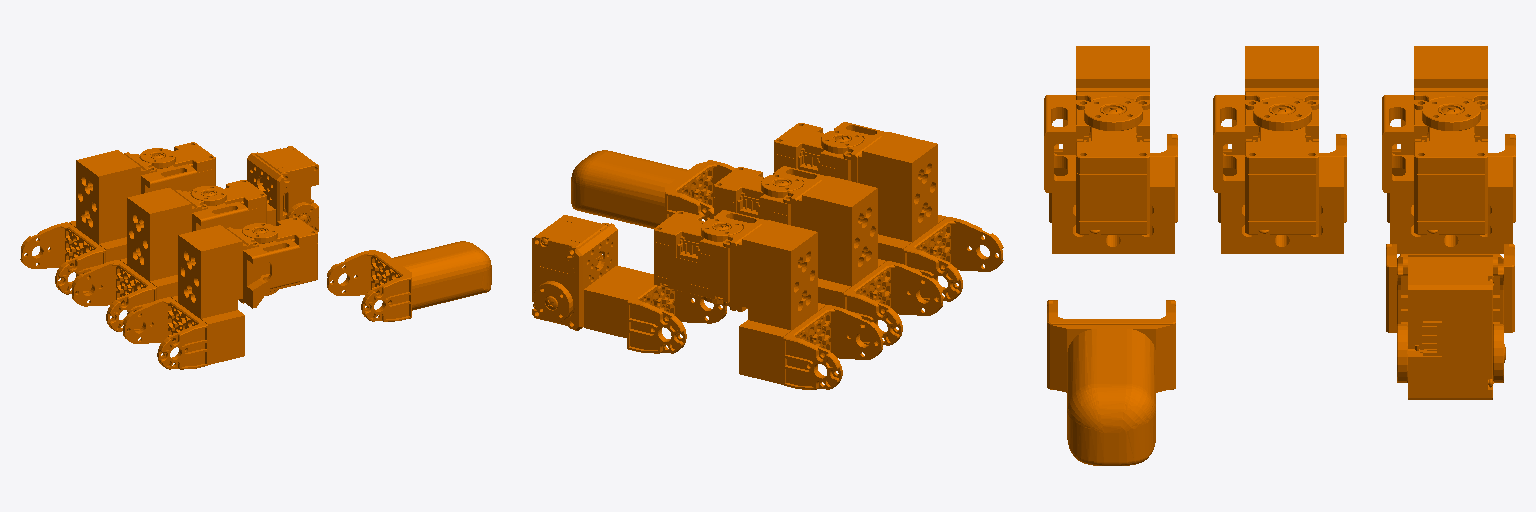
robot.urdf — onshape:
<robot name="onshape">
  <link name="palm_lower">
    <inertial>
      <origin xyz="0.0 0.0 0.0" rpy="0.0 -0.0 0.0"/>
      <mass value="0.237"/>
      <inertia ixx="0.000354094" ixy="-1.193e-06" ixz="-2.445e-06" iyy="0.000260915" iyz="-2.905e-06" izz="0.000529257"/>
    </inertial>
    <visual>
      <geometry>
        <mesh filename="../assets/leap/leap_hand/palm_lower.stl"/>
      </geometry>
      <origin xyz="-0.020095249652862544 0.025757756134899473 -0.034722403578460216" rpy="0.0 -0.0 0.0"/>
      <material name="palm_lower_material">
        <color rgba="0.6039215686274509 0.14901960784313725 0.14901960784313725 1.0"/>
      </material>
    </visual>
    <collision>
      <geometry>
        <mesh filename="../assets/leap/leap_hand/palm_lower.stl"/>
      </geometry>
      <origin xyz="-0.020095249652862544 0.025757756134899473 -0.034722403578460216" rpy="0.0 -0.0 0.0"/>
    </collision>
  </link>
  <link name="mcp_joint_long">
    <inertial>
      <origin xyz="0.0 0.0 0.0" rpy="0.0 -0.0 0.0"/>
      <mass value="0.044"/>
      <inertia ixx="1.1499e-05" ixy="3.049e-06" ixz="1.21e-07" iyy="7.796e-06" iyz="1.12e-07" izz="1.4759e-05"/>
    </inertial>
    <visual>
      <geometry>
        <mesh filename="custom_models/mcp_joint_long.stl"/>
      </geometry>
      <origin xyz="0.008406902261174496 0.0077662438597169954 0.014657354985032912" rpy="1.6375789613221e-15 -1.021047330249102e-30 1.7177968783327987e-31"/>
      <material name="mcp_joint_material">
        <color rgba="0.878 0.467 0.0 1.0"/>
      </material>
    </visual>
    <collision>
      <geometry>
        <mesh filename="custom_models/mcp_joint_long.stl"/>
      </geometry>
      <origin xyz="0.008406902261174496 0.0077662438597169954 0.014657354985032912" rpy="1.6375789613221e-15 -1.021047330249102e-30 1.7177968783327987e-31"/>
    </collision>
  </link>
  <link name="pip">
    <inertial>
      <origin xyz="0.0 0.0 0.0" rpy="0.0 -0.0 0.0"/>
      <mass value="0.032"/>
      <inertia ixx="4.798e-06" ixy="1.2e-08" ixz="4e-09" iyy="2.862e-06" iyz="1.1e-08" izz="4.234e-06"/>
    </inertial>
    <visual>
      <geometry>
        <mesh filename="../assets/leap/leap_hand/pip.stl"/>
      </geometry>
      <origin xyz="0.009643363092271328 0.0002999999999999895 0.0007840340104173765" rpy="-1.5707963267948966 -1.5707963267948963 0.0"/>
      <material name="pip_material">
        <color rgba="0.7490196078431373 0.7490196078431373 0.7490196078431373 1.0"/>
      </material>
    </visual>
    <collision>
      <geometry>
        <mesh filename="../assets/leap/leap_hand/pip.stl"/>
      </geometry>
      <origin xyz="0.009643363092271328 0.0002999999999999895 0.0007840340104173765" rpy="-1.5707963267948966 -1.5707963267948963 0.0"/>
    </collision>
  </link>
  <link name="dip_long">
    <inertial>
      <origin xyz="0.0 0.0 0.0" rpy="0.0 -0.0 0.0"/>
      <mass value="0.037"/>
      <inertia ixx="5.542e-06" ixy="-6.07e-07" ixz="-1.7e-08" iyy="5.727e-06" iyz="-2.3e-08" izz="6.682e-06"/>
    </inertial>
    <visual>
      <geometry>
        <mesh filename="custom_models/dip_long.stl"/>
      </geometry>
      <origin xyz="0.021133352895225003 -0.00843211914670488 0.00978508816209524" rpy="-3.141592653589793 4.507511124216441e-32 4.439548105392361e-32"/>
      <material name="dip_material">
        <color rgba="0.878 0.467 0.0 1.0"/>
      </material>
    </visual>
    <collision>
      <geometry>
        <mesh filename="custom_models/dip_long.stl"/>
      </geometry>
      <origin xyz="0.021133352895225003 -0.00843211914670488 0.00978508816209524" rpy="-3.141592653589793 4.507511124216441e-32 4.439548105392361e-32"/>
    </collision>
  </link>
  <link name="fingertip">
    <inertial>
      <origin xyz="0.0 0.0 0.0" rpy="0.0 -0.0 0.0"/>
      <mass value="0.016"/>
      <inertia ixx="3.368e-06" ixy="1.15e-07" ixz="0.0" iyy="1.556e-06" iyz="0.0" izz="2.863e-06"/>
    </inertial>
    <visual>
      <geometry>
        <mesh filename="../assets/leap/leap_hand/fingertip.stl"/>
      </geometry>
      <origin xyz="0.013286424108533503 -0.006114238386541987 0.014499999999999498" rpy="3.141592653589793 1.1993117970061735e-33 4.439548105392361e-32"/>
      <material name="fingertip_material">
        <color rgba="0.8666666666666667 0.8666666666666667 0.050980392156862744 1.0"/>
      </material>
    </visual>
    <collision>
      <geometry>
        <mesh filename="../assets/leap/leap_hand/fingertip.stl"/>
      </geometry>
      <origin xyz="0.013286424108533503 -0.006114238386541987 0.014499999999999498" rpy="3.141592653589793 1.1993117970061735e-33 4.439548105392361e-32"/>
    </collision>
  </link>
  <link name="pip_4">
    <inertial>
      <origin xyz="0.0 0.0 0.0" rpy="0.0 -0.0 0.0"/>
      <mass value="0.032"/>
      <inertia ixx="4.798e-06" ixy="1.2e-08" ixz="4e-09" iyy="2.862e-06" iyz="1.1e-08" izz="4.234e-06"/>
    </inertial>
    <visual>
      <geometry>
        <mesh filename="../assets/leap/leap_hand/pip.stl"/>
      </geometry>
      <origin xyz="-0.005356636907728671 0.0002999999999999999 0.0007840340104173782" rpy="-1.5707963267948966 -1.5707963267948963 0.0"/>
      <material name="pip_material">
        <color rgba="0.7490196078431373 0.7490196078431373 0.7490196078431373 1.0"/>
      </material>
    </visual>
    <collision>
      <geometry>
        <mesh filename="../assets/leap/leap_hand/pip.stl"/>
      </geometry>
      <origin xyz="-0.005356636907728671 0.0002999999999999999 0.0007840340104173782" rpy="-1.5707963267948966 -1.5707963267948963 0.0"/>
    </collision>
  </link>
  <link name="thumb_pip">
    <inertial>
      <origin xyz="0.0 0.0 0.0" rpy="0.0 -0.0 0.0"/>
      <mass value="0.003"/>
      <inertia ixx="5.93e-07" ixy="0.0" ixz="0.0" iyy="5.49e-07" iyz="0.0" izz="2.24e-07"/>
    </inertial>
    <visual>
      <geometry>
        <mesh filename="../assets/leap/leap_hand/thumb_pip.stl"/>
      </geometry>
      <origin xyz="0.011961920770611187 -5.30825383648903e-16 -0.0158526489566642" rpy="1.5707963267948966 1.6050198443300153e-46 -3.9204996250525193e-59"/>
      <material name="thumb_pip_material">
        <color rgba="0.8666666666666667 0.8666666666666667 0.050980392156862744 1.0"/>
      </material>
    </visual>
    <collision>
      <geometry>
        <mesh filename="../assets/leap/leap_hand/thumb_pip.stl"/>
      </geometry>
      <origin xyz="0.011961920770611187 -5.30825383648903e-16 -0.0158526489566642" rpy="1.5707963267948966 1.6050198443300153e-46 -3.9204996250525193e-59"/>
    </collision>
  </link>
  <link name="thumb_dip">
    <inertial>
      <origin xyz="0.0 0.0 0.0" rpy="0.0 -0.0 0.0"/>
      <mass value="0.038"/>
      <inertia ixx="8.474e-06" ixy="2.41e-07" ixz="2.6e-08" iyy="3.841e-06" iyz="2.5e-08" izz="7.679e-06"/>
    </inertial>
    <visual>
      <geometry>
        <mesh filename="../assets/leap/leap_hand/thumb_dip.stl"/>
      </geometry>
      <origin xyz="0.043968715707239175 0.0579529529737092 -0.008628676449369476" rpy="1.94289029309401e-16 3.27515792264422e-15 1.112375852965736e-46"/>
      <material name="thumb_dip_material">
        <color rgba="0.8666666666666667 0.8666666666666667 0.050980392156862744 1.0"/>
      </material>
    </visual>
    <collision>
      <geometry>
        <mesh filename="../assets/leap/leap_hand/thumb_dip.stl"/>
      </geometry>
      <origin xyz="0.043968715707239175 0.0579529529737092 -0.008628676449369476" rpy="1.94289029309401e-16 3.27515792264422e-15 1.112375852965736e-46"/>
    </collision>
  </link>
  <link name="thumb_fingertip">
    <inertial>
      <origin xyz="0.0 0.0 0.0" rpy="0.0 -0.0 0.0"/>
      <mass value="0.049"/>
      <inertia ixx="2.0372e-05" ixy="-4.89e-07" ixz="-3e-08" iyy="4.336e-06" iyz="-9.7e-08" izz="1.9845e-05"/>
    </inertial>
    <visual>
      <geometry>
        <mesh filename="../assets/leap/leap_hand/thumb_fingertip.stl"/>
      </geometry>
      <origin xyz="0.06255953846266739 0.07845968291139699 0.048992911807332215" rpy="4.379057701015637e-47 -3.33066907387547e-16 1.2042408677791935e-46"/>
      <material name="thumb_fingertip_material">
        <color rgba="0.6039215686274509 0.14901960784313725 0.14901960784313725 1.0"/>
      </material>
    </visual>
    <collision>
      <geometry>
        <mesh filename="../assets/leap/leap_hand/thumb_fingertip.stl"/>
      </geometry>
      <origin xyz="0.06255953846266739 0.07845968291139699 0.048992911807332215" rpy="4.379057701015637e-47 -3.33066907387547e-16 1.2042408677791935e-46"/>
    </collision>
  </link>
  <link name="mcp_joint_2_long">
    <inertial>
      <origin xyz="0.0 0.0 0.0" rpy="0.0 -0.0 0.0"/>
      <mass value="0.044"/>
      <inertia ixx="1.1499e-05" ixy="3.049e-06" ixz="1.21e-07" iyy="7.796e-06" iyz="1.12e-07" izz="1.4759e-05"/>
    </inertial>
    <visual>
      <geometry>
        <mesh filename="custom_models/mcp_joint_long.stl"/>
      </geometry>
      <origin xyz="0.008406902261174496 0.0077662438597169954 0.014657354985032914" rpy="1.6375789613221e-15 -1.0076465469034e-30 2.1209300131419907e-61"/>
      <material name="mcp_joint_material">
        <color rgba="0.878 0.467 0.0 1.0"/>
      </material>
    </visual>
    <collision>
      <geometry>
        <mesh filename="custom_models/mcp_joint_long.stl"/>
      </geometry>
      <origin xyz="0.008406902261174496 0.0077662438597169954 0.014657354985032914" rpy="1.6375789613221e-15 -1.0076465469034e-30 2.1209300131419907e-61"/>
    </collision>
  </link>
  <link name="pip_2">
    <inertial>
      <origin xyz="0.0 0.0 0.0" rpy="0.0 -0.0 0.0"/>
      <mass value="0.032"/>
      <inertia ixx="4.798e-06" ixy="1.2e-08" ixz="4e-09" iyy="2.862e-06" iyz="1.1e-08" izz="4.234e-06"/>
    </inertial>
    <visual>
      <geometry>
        <mesh filename="../assets/leap/leap_hand/pip.stl"/>
      </geometry>
      <origin xyz="0.009643363092271328 0.0002999999999999947 0.0007840340104173765" rpy="-1.5707963267948966 -1.5707963267948963 0.0"/>
      <material name="pip_material">
        <color rgba="0.7490196078431373 0.7490196078431373 0.7490196078431373 1.0"/>
      </material>
    </visual>
    <collision>
      <geometry>
        <mesh filename="../assets/leap/leap_hand/pip.stl"/>
      </geometry>
      <origin xyz="0.009643363092271328 0.0002999999999999947 0.0007840340104173765" rpy="-1.5707963267948966 -1.5707963267948963 0.0"/>
    </collision>
  </link>
  <link name="dip_2">
    <inertial>
      <origin xyz="0.0 0.0 0.0" rpy="0.0 -0.0 0.0"/>
      <mass value="0.037"/>
      <inertia ixx="5.542e-06" ixy="-6.07e-07" ixz="-1.7e-08" iyy="5.727e-06" iyz="-2.3e-08" izz="6.682e-06"/>
    </inertial>
    <visual>
      <geometry>
        <mesh filename="../assets/leap/leap_hand/dip.stl"/>
      </geometry>
      <origin xyz="0.021133352895225003 -0.008432119146704865 0.009785088162095237" rpy="-3.141592653589793 2.1146933785271956e-32 1.4408183216511869e-31"/>
      <material name="dip_material">
        <color rgba="0.8666666666666667 0.8666666666666667 0.050980392156862744 1.0"/>
      </material>
    </visual>
    <collision>
      <geometry>
        <mesh filename="../assets/leap/leap_hand/dip.stl"/>
      </geometry>
      <origin xyz="0.021133352895225003 -0.008432119146704865 0.009785088162095237" rpy="-3.141592653589793 2.1146933785271956e-32 1.4408183216511869e-31"/>
    </collision>
  </link>
  <link name="fingertip_2">
    <inertial>
      <origin xyz="0.0 0.0 0.0" rpy="0.0 -0.0 0.0"/>
      <mass value="0.016"/>
      <inertia ixx="3.368e-06" ixy="1.15e-07" ixz="0.0" iyy="1.556e-06" iyz="0.0" izz="2.863e-06"/>
    </inertial>
    <visual>
      <geometry>
        <mesh filename="../assets/leap/leap_hand/fingertip.stl"/>
      </geometry>
      <origin xyz="0.013286424108533496 -0.006114238386542001 0.014499999999999496" rpy="3.141592653589793 -4.317959788283594e-33 1.4408183216511869e-31"/>
      <material name="fingertip_material">
        <color rgba="0.8666666666666667 0.8666666666666667 0.050980392156862744 1.0"/>
      </material>
    </visual>
    <collision>
      <geometry>
        <mesh filename="../assets/leap/leap_hand/fingertip.stl"/>
      </geometry>
      <origin xyz="0.013286424108533496 -0.006114238386542001 0.014499999999999496" rpy="3.141592653589793 -4.317959788283594e-33 1.4408183216511869e-31"/>
    </collision>
  </link>
  <link name="mcp_joint_3_long">
    <inertial>
      <origin xyz="0.0 0.0 0.0" rpy="0.0 -0.0 0.0"/>
      <mass value="0.044"/>
      <inertia ixx="1.1499e-05" ixy="3.049e-06" ixz="1.21e-07" iyy="7.796e-06" iyz="1.12e-07" izz="1.4759e-05"/>
    </inertial>
    <visual>
      <geometry>
        <mesh filename="custom_models/mcp_joint_long.stl"/>
      </geometry>
      <origin xyz="0.0084069022611745 0.007766243859716996 0.014657354985032914" rpy="1.6375789613221e-15 -1.0059504988632627e-30 5.729641584552035e-32"/>
      <material name="mcp_joint_material">
        <color rgba="0.878 0.467 0.0 1.0"/>
      </material>
    </visual>
    <collision>
      <geometry>
        <mesh filename="custom_models/mcp_joint_long.stl"/>
      </geometry>
      <origin xyz="0.0084069022611745 0.007766243859716996 0.014657354985032914" rpy="1.6375789613221e-15 -1.0059504988632627e-30 5.729641584552035e-32"/>
    </collision>
  </link>
  <link name="pip_3">
    <inertial>
      <origin xyz="0.0 0.0 0.0" rpy="0.0 -0.0 0.0"/>
      <mass value="0.032"/>
      <inertia ixx="4.798e-06" ixy="1.2e-08" ixz="4e-09" iyy="2.862e-06" iyz="1.1e-08" izz="4.234e-06"/>
    </inertial>
    <visual>
      <geometry>
        <mesh filename="../assets/leap/leap_hand/pip.stl"/>
      </geometry>
      <origin xyz="0.009643363092271331 0.00029999999999998084 0.0007840340104173765" rpy="-1.5707963267948966 -1.5707963267948963 0.0"/>
      <material name="pip_material">
        <color rgba="0.7490196078431373 0.7490196078431373 0.7490196078431373 1.0"/>
      </material>
    </visual>
    <collision>
      <geometry>
        <mesh filename="../assets/leap/leap_hand/pip.stl"/>
      </geometry>
      <origin xyz="0.009643363092271331 0.00029999999999998084 0.0007840340104173765" rpy="-1.5707963267948966 -1.5707963267948963 0.0"/>
    </collision>
  </link>
  <link name="dip_3">
    <inertial>
      <origin xyz="0.0 0.0 0.0" rpy="0.0 -0.0 0.0"/>
      <mass value="0.037"/>
      <inertia ixx="5.542e-06" ixy="-6.07e-07" ixz="-1.7e-08" iyy="5.727e-06" iyz="-2.3e-08" izz="6.682e-06"/>
    </inertial>
    <visual>
      <geometry>
        <mesh filename="../assets/leap/leap_hand/dip.stl"/>
      </geometry>
      <origin xyz="0.021133352895225006 -0.008432119146704865 0.009785088162095237" rpy="-3.141592653589793 -1.4095651113919093e-33 1.5565411607615035e-32"/>
      <material name="dip_material">
        <color rgba="0.8666666666666667 0.8666666666666667 0.050980392156862744 1.0"/>
      </material>
    </visual>
    <collision>
      <geometry>
        <mesh filename="../assets/leap/leap_hand/dip.stl"/>
      </geometry>
      <origin xyz="0.021133352895225006 -0.008432119146704865 0.009785088162095237" rpy="-3.141592653589793 -1.4095651113919093e-33 1.5565411607615035e-32"/>
    </collision>
  </link>
  <link name="fingertip_3_long">
    <inertial>
      <origin xyz="0.0 0.0 0.0" rpy="0.0 -0.0 0.0"/>
      <mass value="0.016"/>
      <inertia ixx="3.368e-06" ixy="1.15e-07" ixz="0.0" iyy="1.556e-06" iyz="0.0" izz="2.863e-06"/>
    </inertial>
    <visual>
      <geometry>
        <mesh filename="custom_models/fingertip_long.stl"/>
      </geometry>
      <origin xyz="0.013286424108533501 -0.006114238386541987 0.0144999999999995" rpy="3.141592653589793 8.61707169505754e-33 1.5565411607615035e-32"/>
      <material name="fingertip_material">
        <color rgba="0.878 0.467 0.0 1.0"/>
      </material>
    </visual>
    <collision>
      <geometry>
        <mesh filename="custom_models/fingertip_long.stl"/>
      </geometry>
      <origin xyz="0.013286424108533501 -0.006114238386541987 0.0144999999999995" rpy="3.141592653589793 8.61707169505754e-33 1.5565411607615035e-32"/>
    </collision>
  </link>
  <joint name="1" type="revolute">
    <parent link="palm_lower"/>
    <child link="mcp_joint_long"/>
    <origin xyz="-0.007095249652862546 0.023057756134899472 -0.01872240357846022" rpy="1.570796326794895 1.5707963267948946 0.0"/>
    <axis xyz="0.0 0.0 -1.0"/>
    <limit effort="0.95" velocity="8.48" lower="-0.314" upper="2.23"/>
  </joint>
  <joint name="0" type="revolute">
    <parent link="mcp_joint_long"/>
    <child link="pip"/>
    <origin xyz="-0.012200000000000007713 0.053099999999999994982 0.014500000000000000736" rpy="-1.5707963267948966 -1.0065212660796337e-15 1.5707963267948943"/>
    <axis xyz="0.0 0.0 -1.0"/>
    <limit effort="0.95" velocity="8.48" lower="-1.047" upper="1.047"/>
  </joint>
  <joint name="2" type="revolute">
    <parent link="pip"/>
    <child link="dip_long"/>
    <origin xyz="0.014999999999999968 0.014299999999999905 -0.012999999999999824" rpy="1.570796326794896 -1.5707963267948963 0.0"/>
    <axis xyz="0.0 0.0 -1.0"/>
    <limit effort="0.95" velocity="8.48" lower="-0.506" upper="1.885"/>
  </joint>
  <joint name="3" type="revolute">
    <parent link="dip_long"/>
    <child link="fingertip"/>
    <origin xyz="-4.0880582495572692636e-09 -0.051100004210367367397 0.00020000000000007858714" rpy="4.5935029425113685e-17 -2.8730071914463795e-16 4.439548105392361e-32"/>
    <axis xyz="0.0 0.0 -1.0"/>
    <limit effort="0.95" velocity="8.48" lower="-0.366" upper="2.042"/>
  </joint>
  <joint name="12" type="revolute">
    <parent link="palm_lower"/>
    <child link="pip_4"/>
    <origin xyz="-0.06939524965286253 -0.0012422438651005258 -0.021622403578460216" rpy="-8.238176646493942e-17 1.5707963267948957 0.0"/>
    <axis xyz="0.0 0.0 -1.0"/>
    <limit effort="0.95" velocity="8.48" lower="-0.349" upper="2.094"/>
  </joint>
  <joint name="13" type="revolute">
    <parent link="pip_4"/>
    <child link="thumb_pip"/>
    <origin xyz="-2.7755575615628914e-17 0.014300000000000005 -0.013000000000000012" rpy="1.570796326794896 -1.5707963267948963 0.0"/>
    <axis xyz="0.0 0.0 -1.0"/>
    <limit effort="0.95" velocity="8.48" lower="-0.47" upper="2.443"/>
  </joint>
  <joint name="14" type="revolute">
    <parent link="thumb_pip"/>
    <child link="thumb_dip"/>
    <origin xyz="0.0 0.014499999999999966 -0.017000000000000053" rpy="-1.5707963267948966 1.6050198443300131e-46 -1.9721522630516625e-31"/>
    <axis xyz="0.0 0.0 -1.0"/>
    <limit effort="0.95" velocity="8.48" lower="-1.2" upper="1.9"/>
  </joint>
  <joint name="15" type="revolute">
    <parent link="thumb_dip"/>
    <child link="thumb_fingertip"/>
    <origin xyz="-1.249000902703301e-16 0.046599999999999864 0.0001999999999999771" rpy="1.506395849149178e-44 5.423418723393526e-31 3.141592653589793"/>
    <axis xyz="0.0 0.0 -1.0"/>
    <limit effort="0.95" velocity="8.48" lower="-1.34" upper="1.88"/>
  </joint>
  <joint name="5" type="revolute">
    <parent link="palm_lower"/>
    <child link="mcp_joint_2_long"/>
    <origin xyz="-0.007095249652862546 -0.022392243865100525 -0.01872240357846022" rpy="1.570796326794895 1.5707963267948946 0.0"/>
    <axis xyz="0.0 0.0 -1.0"/>
    <limit effort="0.95" velocity="8.48" lower="-0.314" upper="2.23"/>
  </joint>
  <joint name="4" type="revolute">
    <parent link="mcp_joint_2_long"/>
    <child link="pip_2"/>
    <origin xyz="-0.012200000000000007713 0.053099999999999994982 0.014500000000000000736" rpy="-1.5707963267948966 -1.0065212660796337e-15 1.5707963267948943"/>
    <axis xyz="0.0 0.0 -1.0"/>
    <limit effort="0.95" velocity="8.48" lower="-1.047" upper="1.047"/>
  </joint>
  <joint name="6" type="revolute">
    <parent link="pip_2"/>
    <child link="dip_2"/>
    <origin xyz="0.014999999999999968 0.014299999999999905 -0.012999999999999824" rpy="1.570796326794896 -1.5707963267948963 0.0"/>
    <axis xyz="0.0 0.0 -1.0"/>
    <limit effort="0.95" velocity="8.48" lower="-0.506" upper="1.885"/>
  </joint>
  <joint name="7" type="revolute">
    <parent link="dip_2"/>
    <child link="fingertip_2"/>
    <origin xyz="-4.088058249557269e-09 -0.03610000421036737 0.0002000000000000786" rpy="4.5935029425113685e-17 -2.8730071914463795e-16 4.439548105392361e-32"/>
    <axis xyz="0.0 0.0 -1.0"/>
    <limit effort="0.95" velocity="8.48" lower="-0.366" upper="2.042"/>
  </joint>
  <joint name="9" type="revolute">
    <parent link="palm_lower"/>
    <child link="mcp_joint_3_long"/>
    <origin xyz="-0.007095249652862546 -0.06784224386510052 -0.01872240357846022" rpy="1.570796326794895 1.5707963267948946 0.0"/>
    <axis xyz="0.0 0.0 -1.0"/>
    <limit effort="0.95" velocity="8.48" lower="-0.314" upper="2.23"/>
  </joint>
  <joint name="8" type="revolute">
    <parent link="mcp_joint_3_long"/>
    <child link="pip_3"/>
    <origin xyz="-0.012200000000000007713 0.053099999999999994982 0.014500000000000000736" rpy="-1.5707963267948966 -1.0065212660796337e-15 1.5707963267948943"/>
    <axis xyz="0.0 0.0 -1.0"/>
    <limit effort="0.95" velocity="8.48" lower="-1.047" upper="1.047"/>
  </joint>
  <joint name="10" type="revolute">
    <parent link="pip_3"/>
    <child link="dip_3"/>
    <origin xyz="0.014999999999999968 0.014299999999999905 -0.012999999999999824" rpy="1.570796326794896 -1.5707963267948963 0.0"/>
    <axis xyz="0.0 0.0 -1.0"/>
    <limit effort="0.95" velocity="8.48" lower="-0.506" upper="1.885"/>
  </joint>
  <joint name="11" type="revolute">
    <parent link="dip_3"/>
    <child link="fingertip_3_long"/>
    <origin xyz="-4.088058249557269e-09 -0.03610000421036737 0.0002000000000000786" rpy="4.5935029425113685e-17 -2.8730071914463795e-16 4.439548105392361e-32"/>
    <axis xyz="0.0 0.0 -1.0"/>
    <limit effort="0.95" velocity="8.48" lower="-0.366" upper="2.042"/>
  </joint>
</robot>

--- Render facts (derived) ---
3 views of the same robot in one strip: view 1: azimuth 30°, elevation 25°; view 2: azimuth 150°, elevation 25°; view 3: azimuth 270°, elevation 25° (orthographic).
Model onshape with 17 links and 16 joints (16 revolute), rooted at palm_lower, posed every joint at zero.
Links seen in each view (by area): view 1: mcp_joint_3_long, mcp_joint_long, mcp_joint_2_long, fingertip_3_long, dip_long; view 2: mcp_joint_long, mcp_joint_3_long, mcp_joint_2_long, dip_long, fingertip_3_long; view 3: mcp_joint_2_long, mcp_joint_3_long, mcp_joint_long, dip_long, fingertip_3_long.
Link boxes in pixels (left/top/right/bottom): mcp_joint_3_long: left=123, top=217, right=317, bottom=369; mcp_joint_long: left=20, top=142, right=215, bottom=294; mcp_joint_2_long: left=72, top=180, right=266, bottom=331; fingertip_3_long: left=327, top=241, right=491, bottom=321; dip_long: left=247, top=146, right=318, bottom=231; mcp_joint_long: left=654, top=210, right=882, bottom=389; mcp_joint_3_long: left=774, top=122, right=1003, bottom=301; mcp_joint_2_long: left=714, top=166, right=942, bottom=345; dip_long: left=532, top=215, right=726, bottom=353; fingertip_3_long: left=571, top=150, right=735, bottom=228; mcp_joint_2_long: left=1213, top=46, right=1346, bottom=253; mcp_joint_3_long: left=1044, top=46, right=1177, bottom=253; mcp_joint_long: left=1382, top=46, right=1515, bottom=253; dip_long: left=1386, top=244, right=1514, bottom=399; fingertip_3_long: left=1047, top=300, right=1175, bottom=465.
Size in the robot's own frame: 0.1766 by 0.1267 by 0.0549 metres.
Meshes: 10 distinct files referenced, 5 mesh visuals loaded (3 binary STL); not drawn: 12 (reference not matched to a file when rendering).